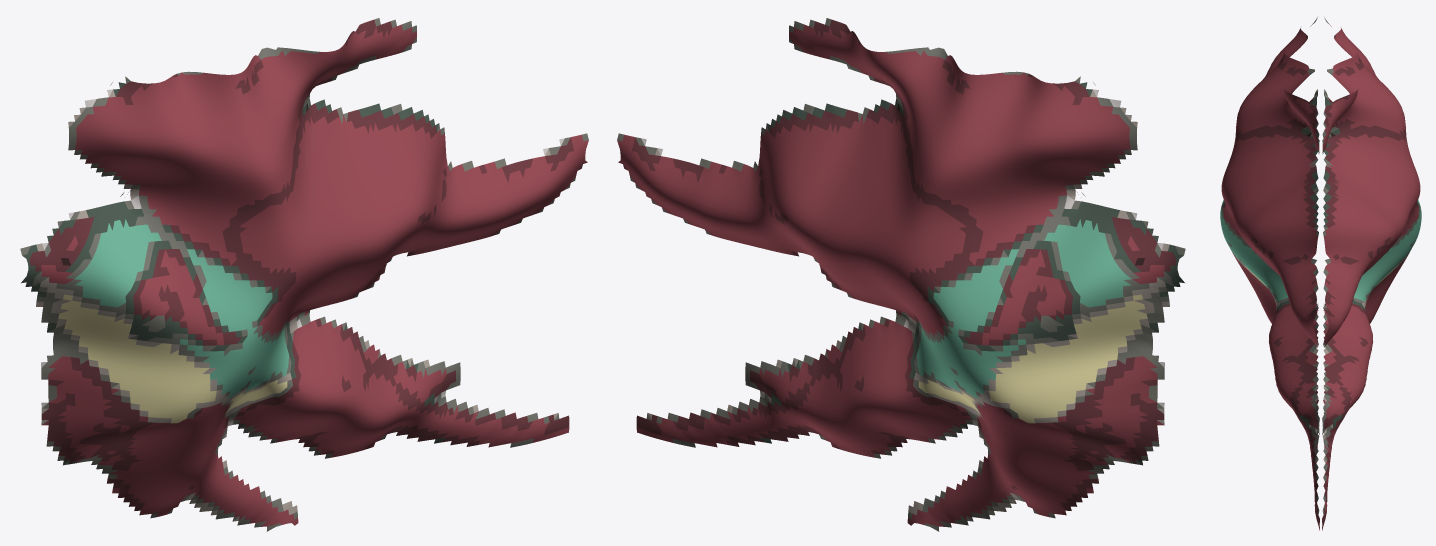
File: poongbaek.glb
3 views of the same model, side by side, from view 1: azimuth 30°, elevation 25°; view 2: azimuth 150°, elevation 25°; view 3: azimuth 270°, elevation 25° (orthographic). The views are drawn at different scales.
Parts seen in each view (by area): view 1: poongbaek; view 2: poongbaek; view 3: poongbaek.
Part boxes in pixels (x1,y1,x2,y2): poongbaek: (20, 18, 588, 531); poongbaek: (617, 18, 1185, 531); poongbaek: (1220, 17, 1421, 530).
Size of the model in its own units: 468 by 387 by 191.
